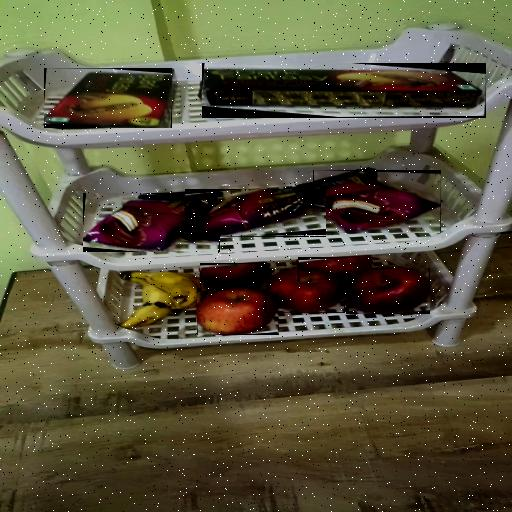Apple: (346, 268, 430, 314), (198, 288, 280, 335), (266, 268, 345, 313), (200, 263, 270, 291), (298, 257, 373, 282)
Choco Fills: (202, 63, 486, 118), (44, 68, 172, 128)
Choco Pie: (83, 193, 220, 252), (313, 170, 441, 233), (185, 190, 326, 238)
